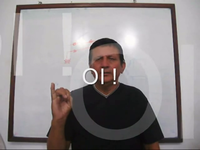oi: (49, 80, 74, 122)
